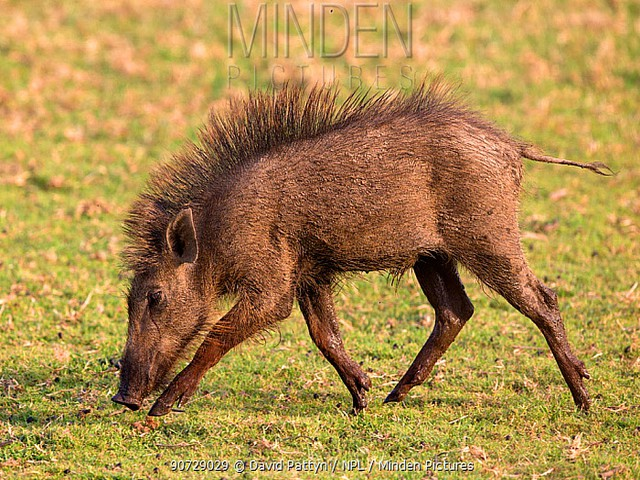Pig: (116, 87, 604, 407)
